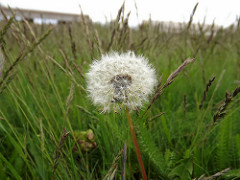dandelion white: (84, 49, 160, 115)
